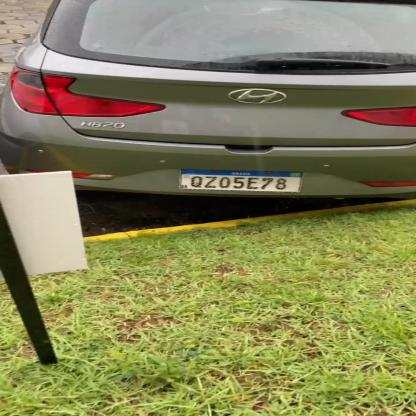Plate: (180, 164, 302, 195)
